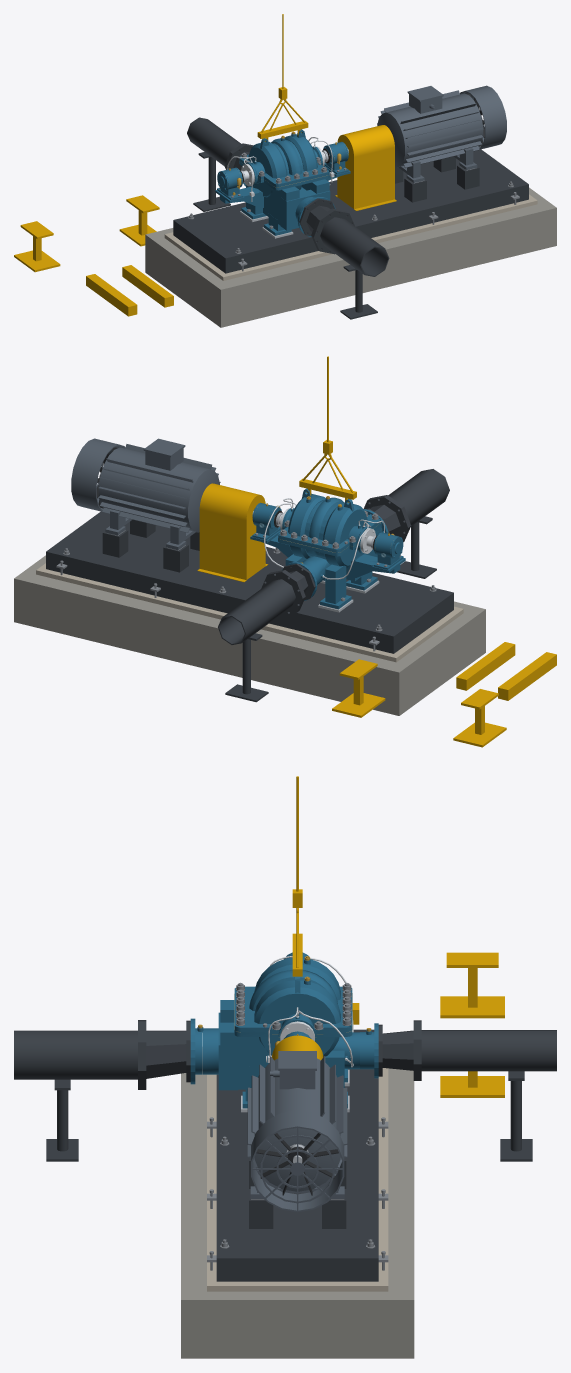
3 views of the same model, one above another, from view 1: azimuth 30°, elevation 25°; view 2: azimuth 150°, elevation 25°; view 3: azimuth 270°, elevation 25° (orthographic). The views are drawn at different scales.
Parts seen in each view (by area): view 1: foundation, baseplate, motor-frame, coupling-guard, rotor-stands, suction-pipe, grout, casing-upper, casing-lower, motor-fan-cover, discharge-pipe, pipe-supports (+10 smaller); view 2: foundation, baseplate, motor-frame, coupling-guard, rotor-stands, grout, discharge-pipe, casing-upper, suction-pipe, motor-fan-cover, pipe-supports, motor-mounting-pads (+11 smaller); view 3: foundation, baseplate, motor-frame, suction-pipe, discharge-pipe, grout, motor-fan-cover, casing-lower, casing-upper, rotor-stands, pipe-supports, suction-reducer (+9 smaller).
Part boxes in pixels (bbox=[...]): foundation: bbox=[145, 187, 556, 327]; baseplate: bbox=[173, 149, 528, 273]; motor-frame: bbox=[377, 90, 483, 167]; coupling-guard: bbox=[335, 125, 396, 210]; rotor-stands: bbox=[14, 195, 173, 316]; suction-pipe: bbox=[312, 209, 389, 276]; grout: bbox=[164, 194, 537, 280]; casing-upper: bbox=[248, 133, 317, 178]; casing-lower: bbox=[254, 179, 330, 230]; motor-fan-cover: bbox=[460, 85, 506, 149]; discharge-pipe: bbox=[187, 117, 253, 169]; pipe-supports: bbox=[193, 152, 377, 319]; foundation: bbox=[14, 555, 485, 715]; baseplate: bbox=[46, 511, 453, 653]; motor-frame: bbox=[98, 444, 220, 532]; coupling-guard: bbox=[197, 483, 268, 582]; rotor-stands: bbox=[332, 642, 556, 747]; grout: bbox=[36, 563, 463, 662]; discharge-pipe: bbox=[218, 571, 304, 644]; casing-upper: bbox=[288, 494, 367, 544]; suction-pipe: bbox=[369, 469, 449, 541]; motor-fan-cover: bbox=[71, 438, 125, 511]; pipe-supports: bbox=[225, 516, 436, 702]; motor-mounting-pads: bbox=[102, 519, 199, 572]; foundation: bbox=[181, 1047, 414, 1358]; baseplate: bbox=[216, 1029, 378, 1281]; motor-frame: bbox=[247, 1056, 347, 1191]; suction-pipe: bbox=[14, 1020, 141, 1089]; discharge-pipe: bbox=[417, 1020, 556, 1080]; grout: bbox=[207, 1068, 388, 1291]; motor-fan-cover: bbox=[251, 1110, 344, 1212]; casing-lower: bbox=[203, 1000, 359, 1090]; casing-upper: bbox=[249, 957, 340, 1026]; rotor-stands: bbox=[352, 952, 504, 1097]; pipe-supports: bbox=[46, 1071, 532, 1161]; suction-reducer: bbox=[142, 1020, 190, 1089].
Bounding box in the file's own units: 4.82 × 2.75 × 3.35.
